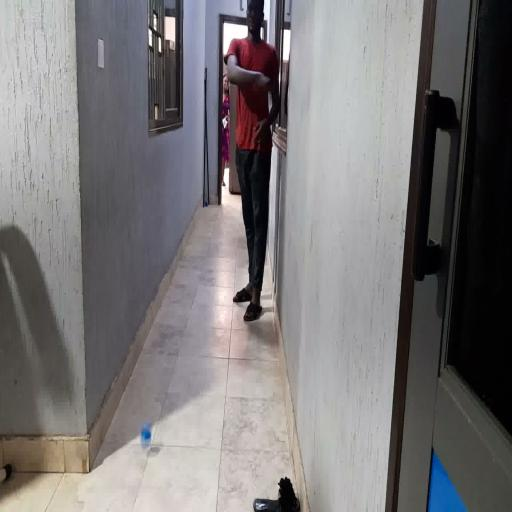plastic-ball: (140, 421, 153, 448)
